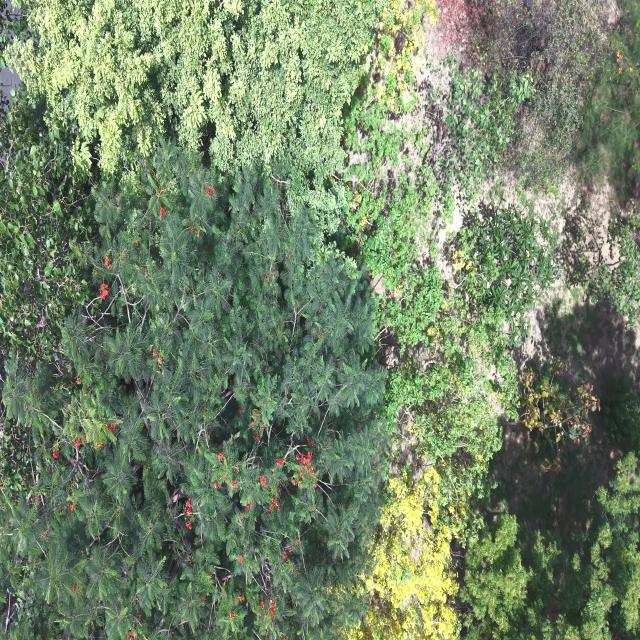DRY_AREA: (478, 167, 639, 404), (498, 168, 639, 405)
VEGETATION_TREE: (0, 0, 639, 639), (2, 76, 521, 637), (0, 147, 386, 638), (345, 58, 597, 635), (344, 58, 553, 638), (344, 73, 524, 638), (345, 59, 552, 542), (4, 0, 383, 230), (483, 2, 639, 330), (462, 454, 639, 639), (1, 88, 96, 371), (0, 92, 95, 371), (0, 92, 93, 361), (475, 0, 605, 189), (579, 0, 639, 326), (344, 469, 455, 639), (449, 203, 557, 340), (441, 56, 531, 189), (581, 0, 639, 199), (587, 455, 639, 636), (519, 357, 599, 472), (461, 513, 531, 639), (373, 0, 437, 107), (588, 201, 639, 326), (602, 376, 639, 453)
